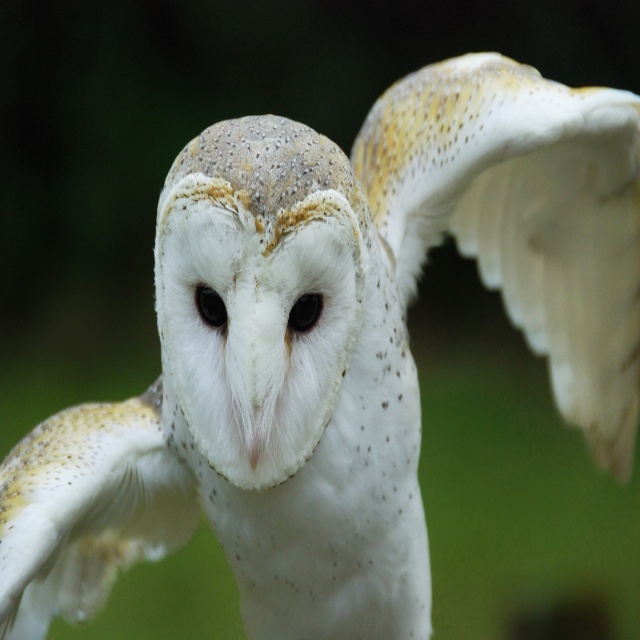Owl: (0, 53, 640, 639)
